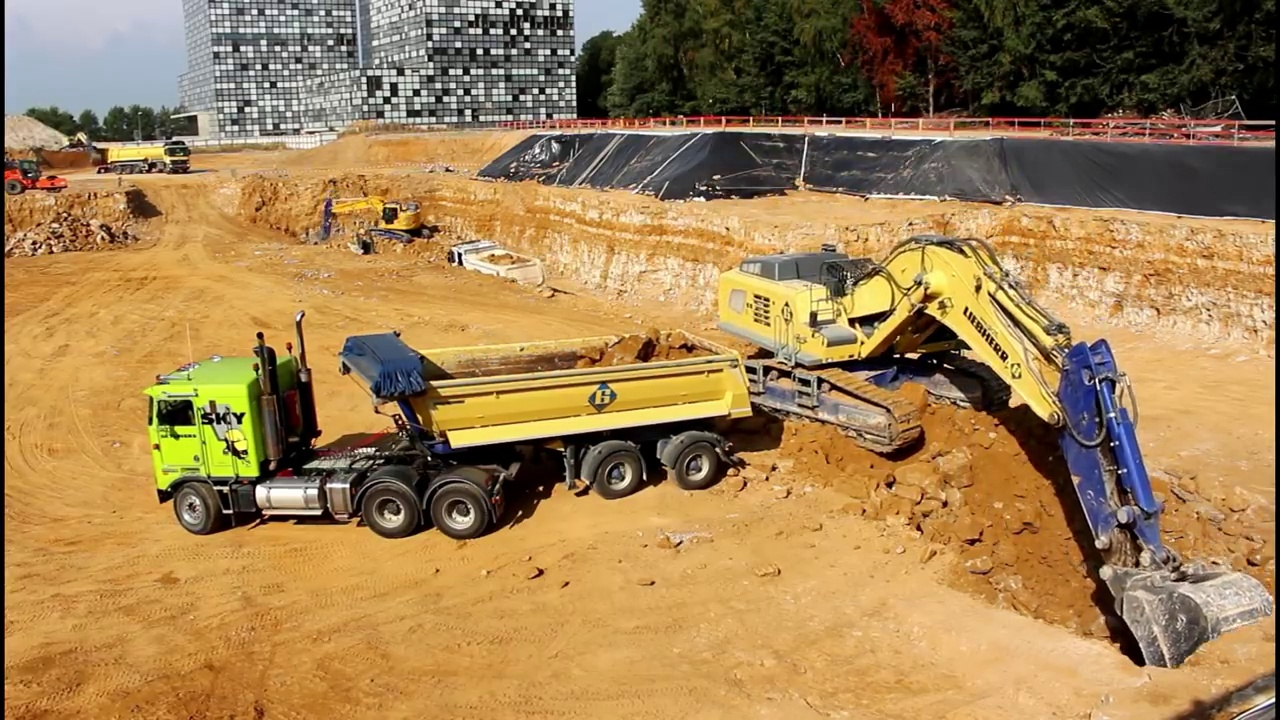compactor: (2, 157, 70, 202)
excavator: (705, 231, 1278, 676), (306, 189, 442, 268), (56, 127, 101, 158)
truck: (139, 307, 757, 545), (443, 233, 549, 306), (97, 133, 194, 176)
